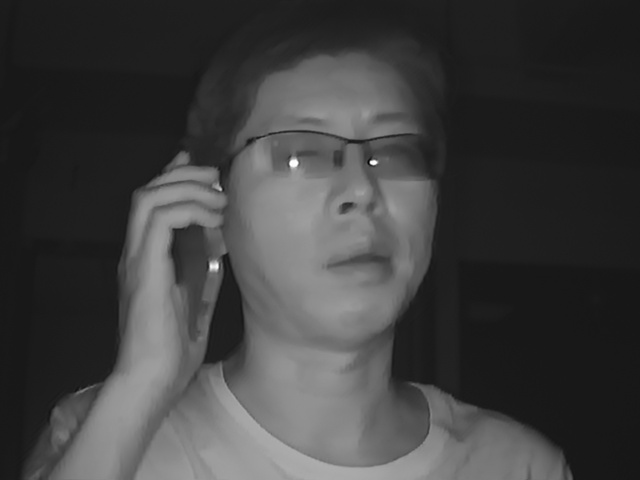hand: (96, 163, 230, 378)
